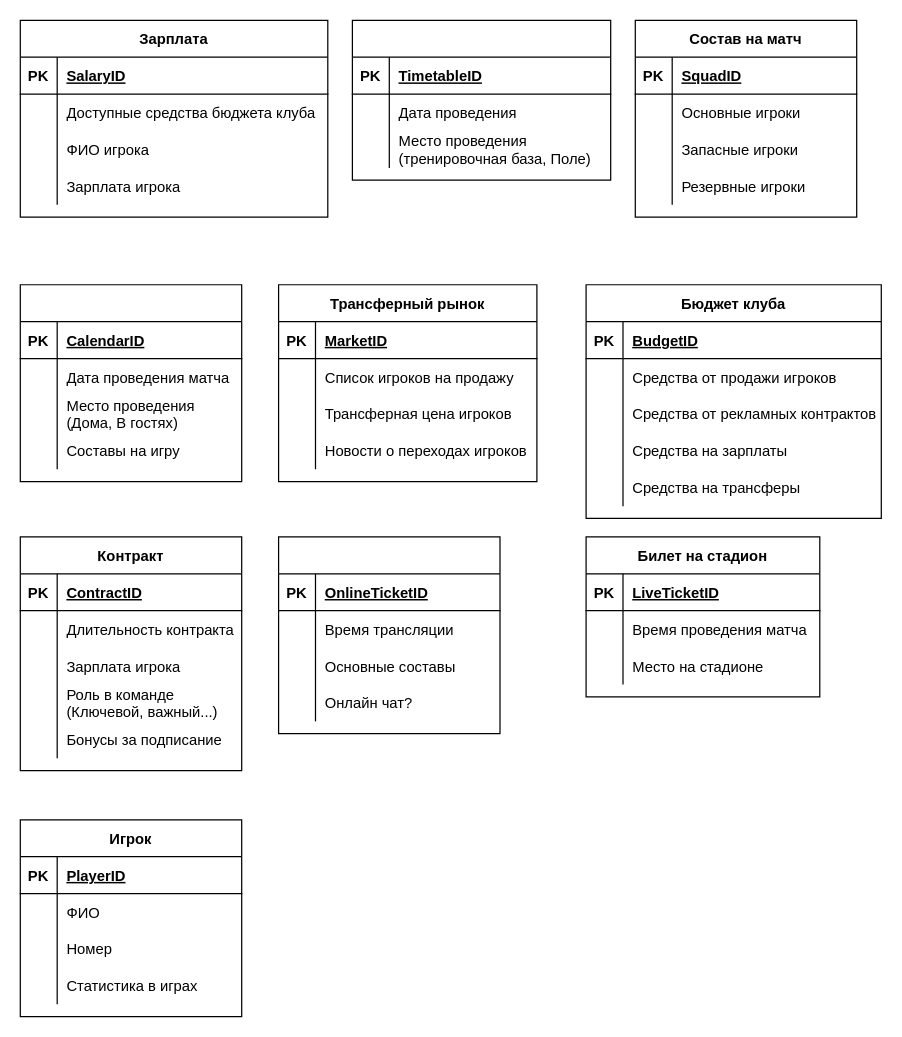
Some shapes in this 902 by 1037 pixel diagram are drawn without their labels. Each missing label, with the box of its shape:
Календарь матчей: (19, 284, 242, 482)
Онлайн билет: (277, 536, 500, 734)
Расписание тренировок: (351, 19, 611, 180)
